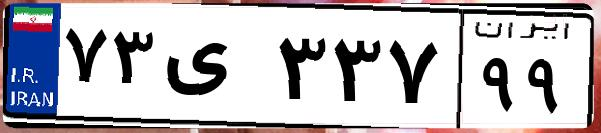3: (270, 28, 330, 110), (330, 28, 385, 110), (110, 28, 158, 98)
7: (385, 28, 445, 110), (57, 26, 110, 100)
9: (475, 38, 525, 113), (525, 38, 570, 115)
ی: (158, 20, 270, 120)
